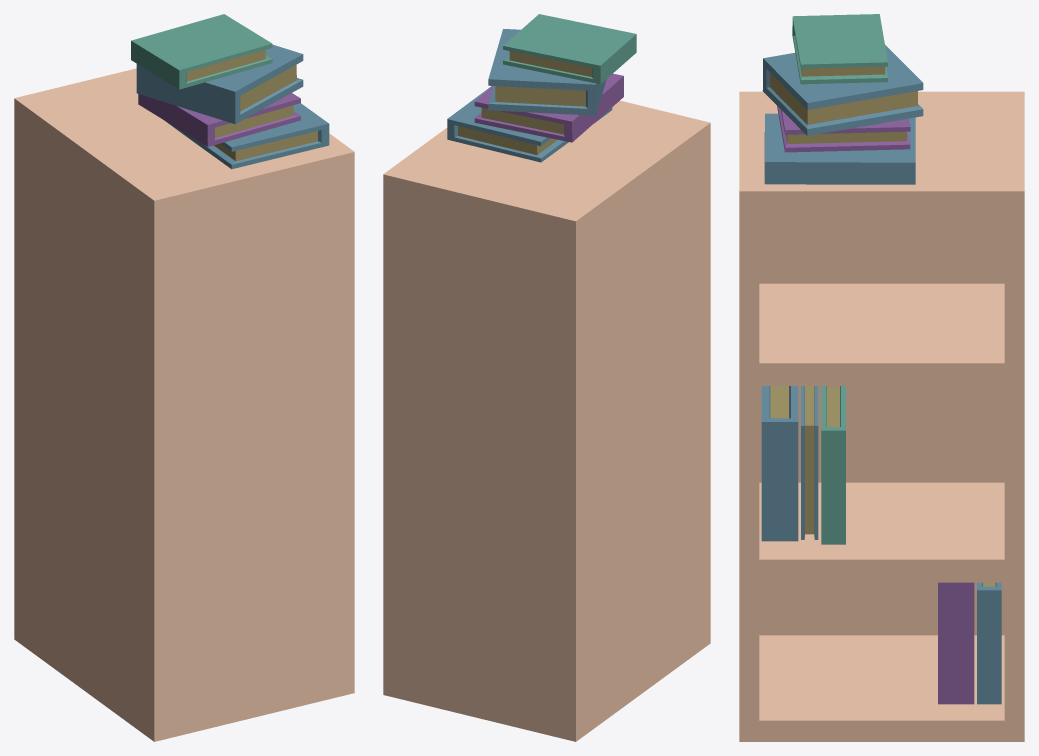
Rendered from BooksheldHalf2 1.fbx.
The picture shows the model from 3 angles, left to right: view 1: azimuth 30°, elevation 25°; view 2: azimuth 150°, elevation 25°; view 3: azimuth 270°, elevation 25°; orthographic projection. The views are drawn at different scales.
Visible parts, largest first — view 1: Halffull_bookself1; view 2: Halffull_bookself1; view 3: Halffull_bookself1.
Boxes of the visible parts, x1,y1,x2,y2 form: Halffull_bookself1: (14, 14, 354, 741); Halffull_bookself1: (383, 14, 710, 741); Halffull_bookself1: (739, 14, 1024, 741).
Bounding box in the file's own units: 25.64 × 78.25 × 31.06.
